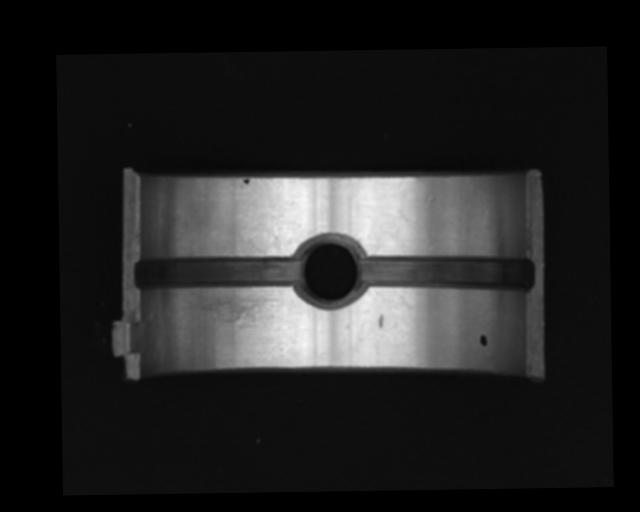blot: (479, 333, 487, 347), (241, 176, 250, 186)
bruise: (377, 313, 384, 329)
gap: (358, 253, 535, 294), (134, 254, 302, 291)
hole: (295, 232, 366, 311)
scratch: (180, 290, 286, 325)
